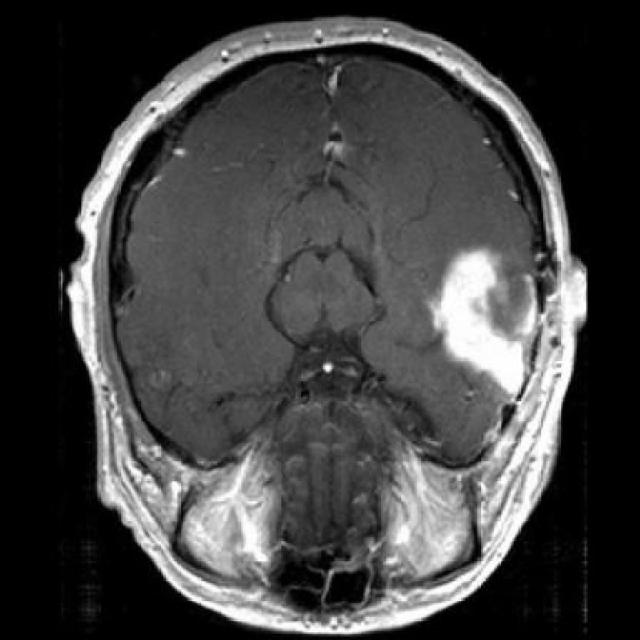Tumor: (438, 252, 545, 354)
